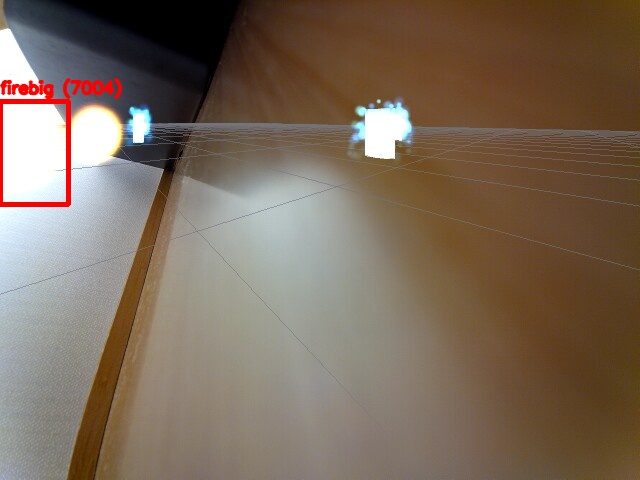firebig: (0, 101, 68, 204)
